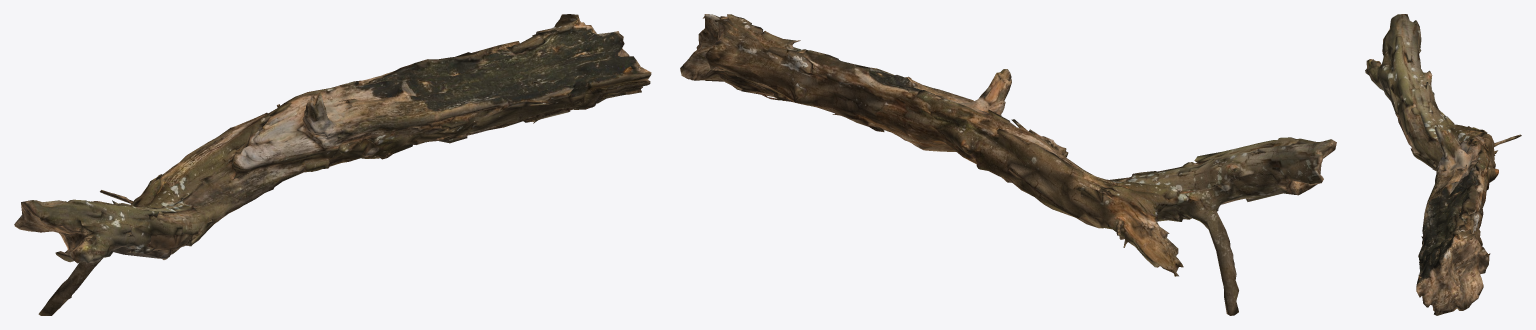
The model's file is dead_tree_trunk_02-mobile.glb.
3 views of the same model, side by side, from view 1: azimuth 30°, elevation 25°; view 2: azimuth 150°, elevation 25°; view 3: azimuth 270°, elevation 25° (orthographic). The views are drawn at different scales.
Visible parts, largest first — view 1: dead_tree_trunk_02; view 2: dead_tree_trunk_02; view 3: dead_tree_trunk_02.
Boxes of the visible parts, <box> form: dead_tree_trunk_02: <box>14,14,651,315</box>; dead_tree_trunk_02: <box>680,14,1336,315</box>; dead_tree_trunk_02: <box>1365,14,1521,315</box>.
Bounding box in the file's own units: 4.05 × 1.05 × 1.05.
Materials: 1 (1 with a texture image).
